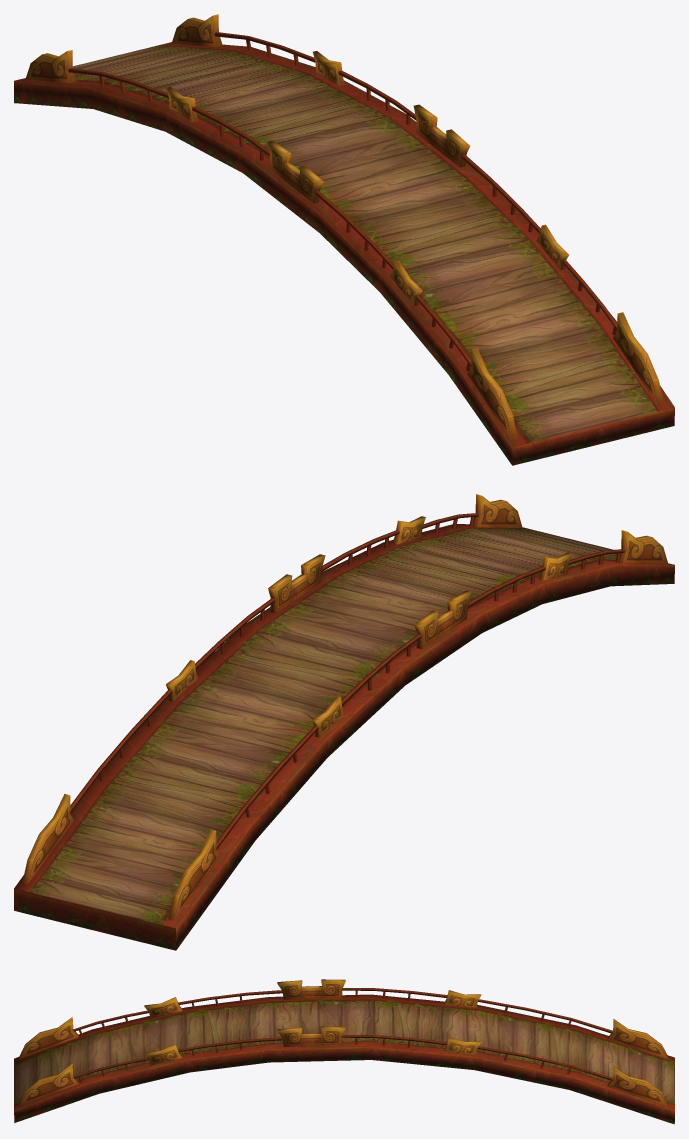
Rendered from environment_Building_jianmushenshu_001_a.FBX.
The picture shows the model from 3 angles, top to bottom: view 1: azimuth 30°, elevation 25°; view 2: azimuth 150°, elevation 25°; view 3: azimuth 270°, elevation 25°; orthographic projection. The views are drawn at different scales.
Visible parts, largest first — view 1: environment_Building_jianmushenshu_001_a; view 2: environment_Building_jianmushenshu_001_a; view 3: environment_Building_jianmushenshu_001_a.
Boxes of the visible parts, x1,y1,x2,y2 form: environment_Building_jianmushenshu_001_a: (14, 14, 674, 465); environment_Building_jianmushenshu_001_a: (14, 494, 674, 950); environment_Building_jianmushenshu_001_a: (14, 979, 674, 1124).
Bounding box in the file's own units: 281 × 1499 × 237.
